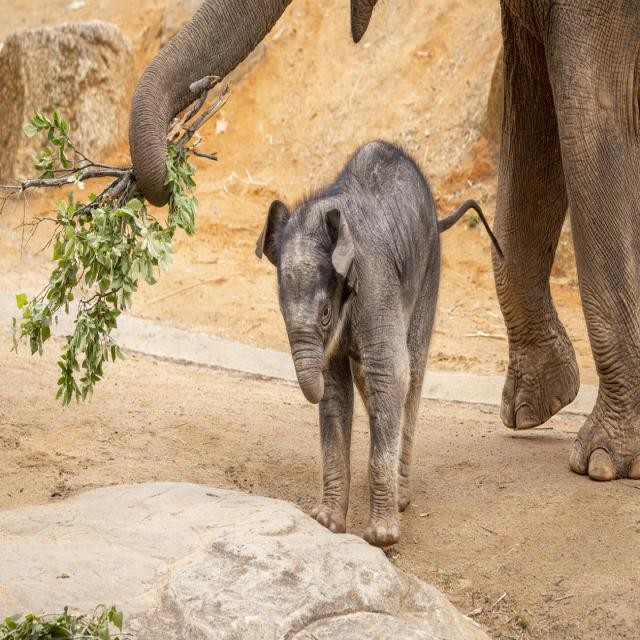Elephant: (255, 129, 450, 568)
